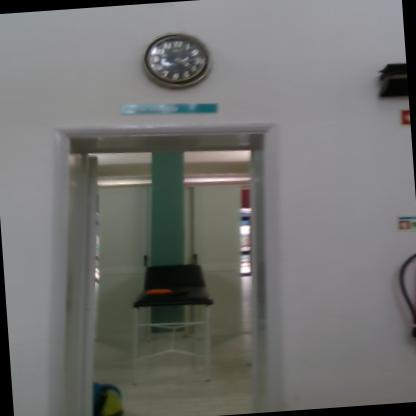open: (55, 112, 297, 415)
